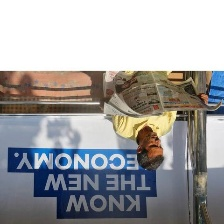news_paper: (99, 70, 223, 119)
